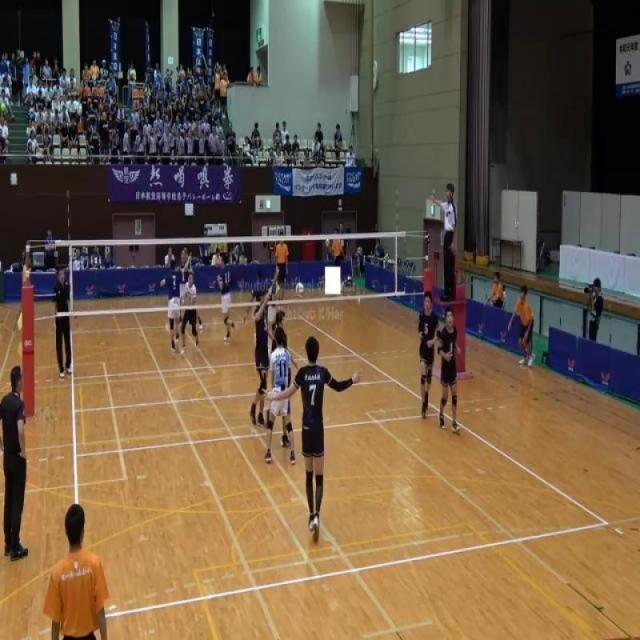volleyball: (296, 282, 304, 298), (325, 238, 330, 248)
